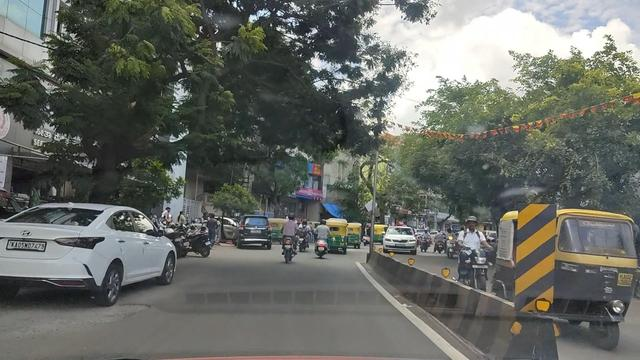LMV: (8, 198, 179, 297), (274, 209, 313, 273)
RoadDamages: (22, 303, 150, 351)
